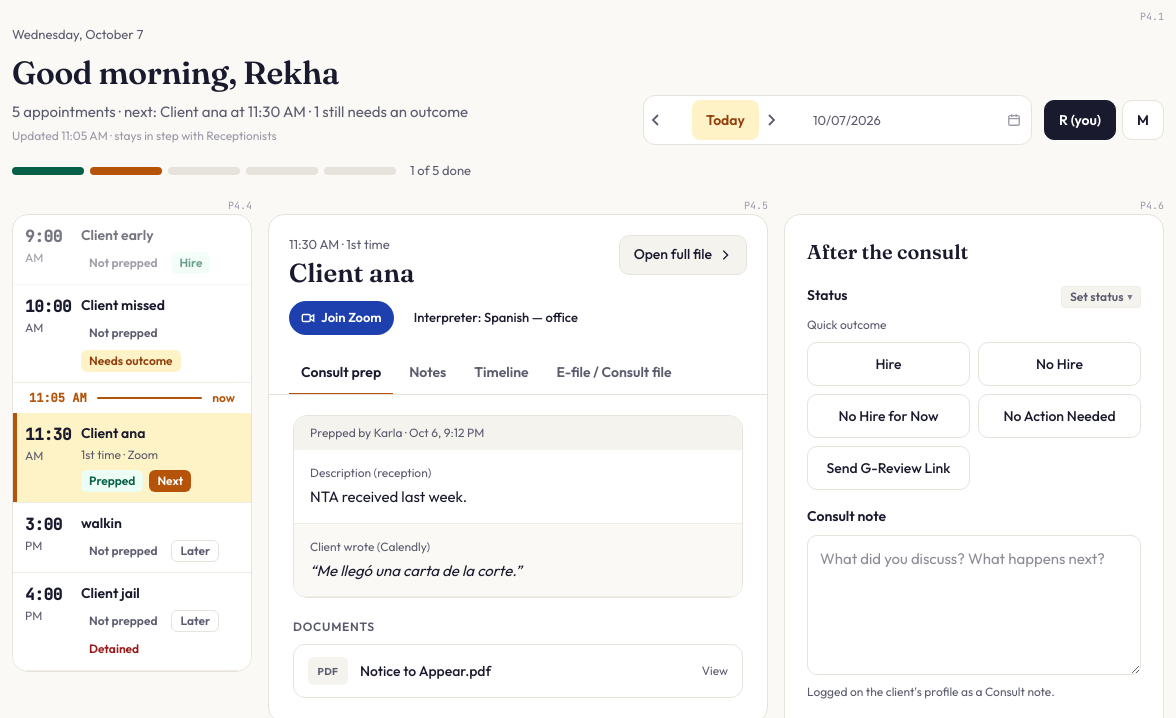
AppointmentsPage (P4 My Day) › switches to another attorney's calendar
Click the button "M" at x=1143, y=120, box [1122,100,1164,140]
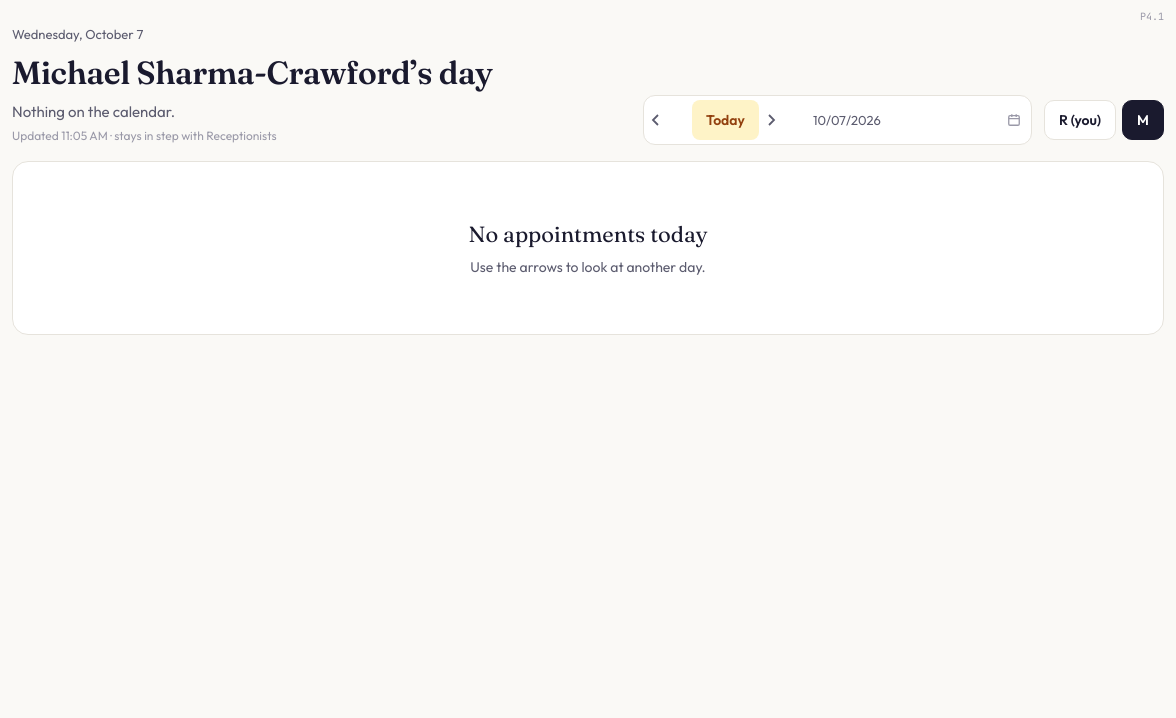
Expected: the heading "Michael Sharma-Crawford’s day" is shown, [12,52,492,92]
Expected: the text "No appointments today" is shown, [468,220,708,248]
